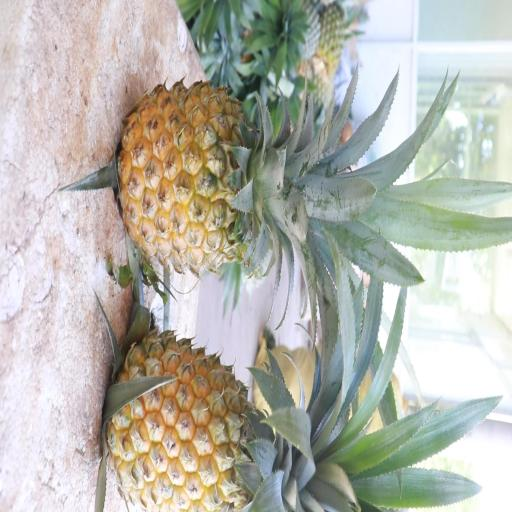Pineapple - v8 v1: (102, 323, 351, 512), (115, 74, 337, 282)
